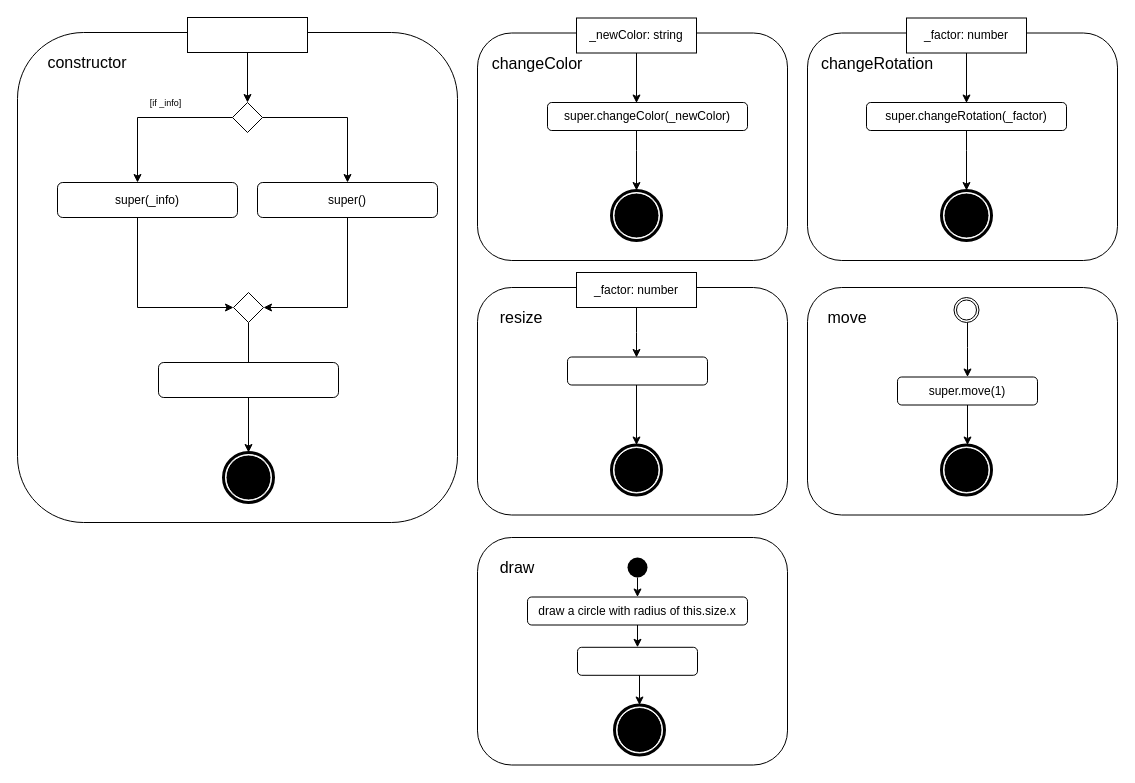
This 1135x783 diagram has some shape labels left out. Here are the shapes that lost their labels. From the top down, the centre of each, then its label:
point 247,34: _info: string[]
point 248,380: this.type="circle"
point 637,370: super.resize(_factor)
point 637,660: draw figure
